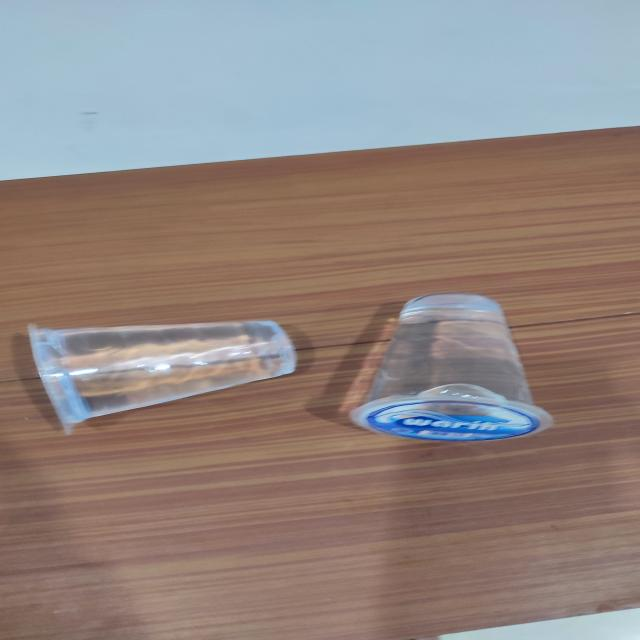air gelas: (336, 285, 564, 447), (21, 319, 307, 438)
